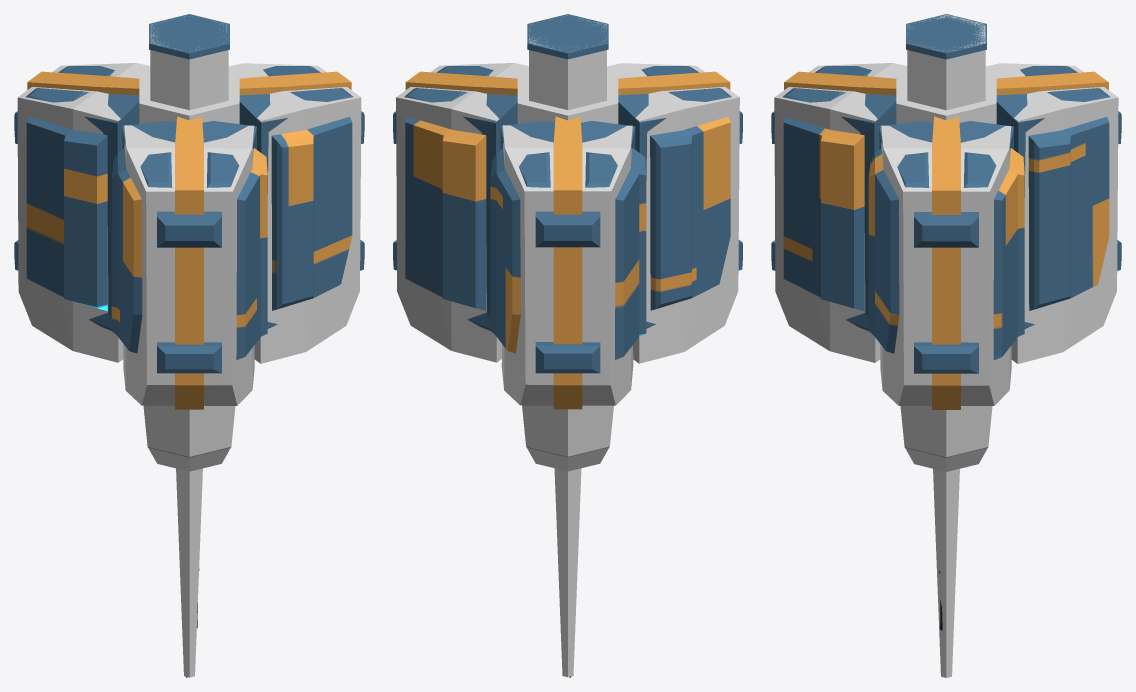
The model's file is SM_Ship_Station_05.fbx.
3 views of the same model, side by side, from view 1: azimuth 30°, elevation 25°; view 2: azimuth 150°, elevation 25°; view 3: azimuth 270°, elevation 25° (orthographic).
Parts seen in each view (by area): view 1: SM_Ship_Station_05_LOD0, SM_Ship_Station_05_ConvexHulls; view 2: SM_Ship_Station_05_LOD0, SM_Ship_Station_05_ConvexHulls; view 3: SM_Ship_Station_05_LOD0, SM_Ship_Station_05_ConvexHulls.
Boxes of the visible parts, x1,y1,x2,y2 form: SM_Ship_Station_05_LOD0: [14, 14, 364, 677]; SM_Ship_Station_05_ConvexHulls: [17, 16, 361, 677]; SM_Ship_Station_05_LOD0: [393, 14, 742, 677]; SM_Ship_Station_05_ConvexHulls: [396, 15, 739, 677]; SM_Ship_Station_05_LOD0: [771, 14, 1121, 630]; SM_Ship_Station_05_ConvexHulls: [774, 15, 1118, 677].
Bounding box in the file's own units: 14388 × 12921 × 29197.
Materials: 1 (1 with a texture image).
